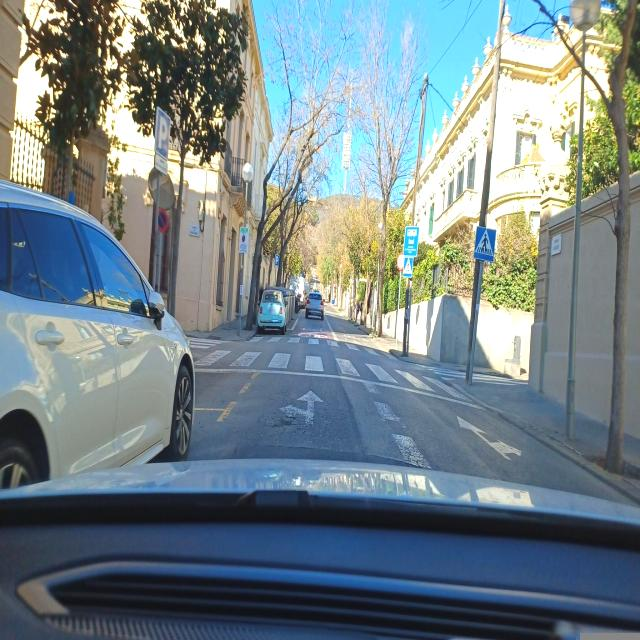car: (0, 181, 196, 505), (256, 288, 288, 334), (305, 290, 324, 319), (289, 276, 306, 305)
